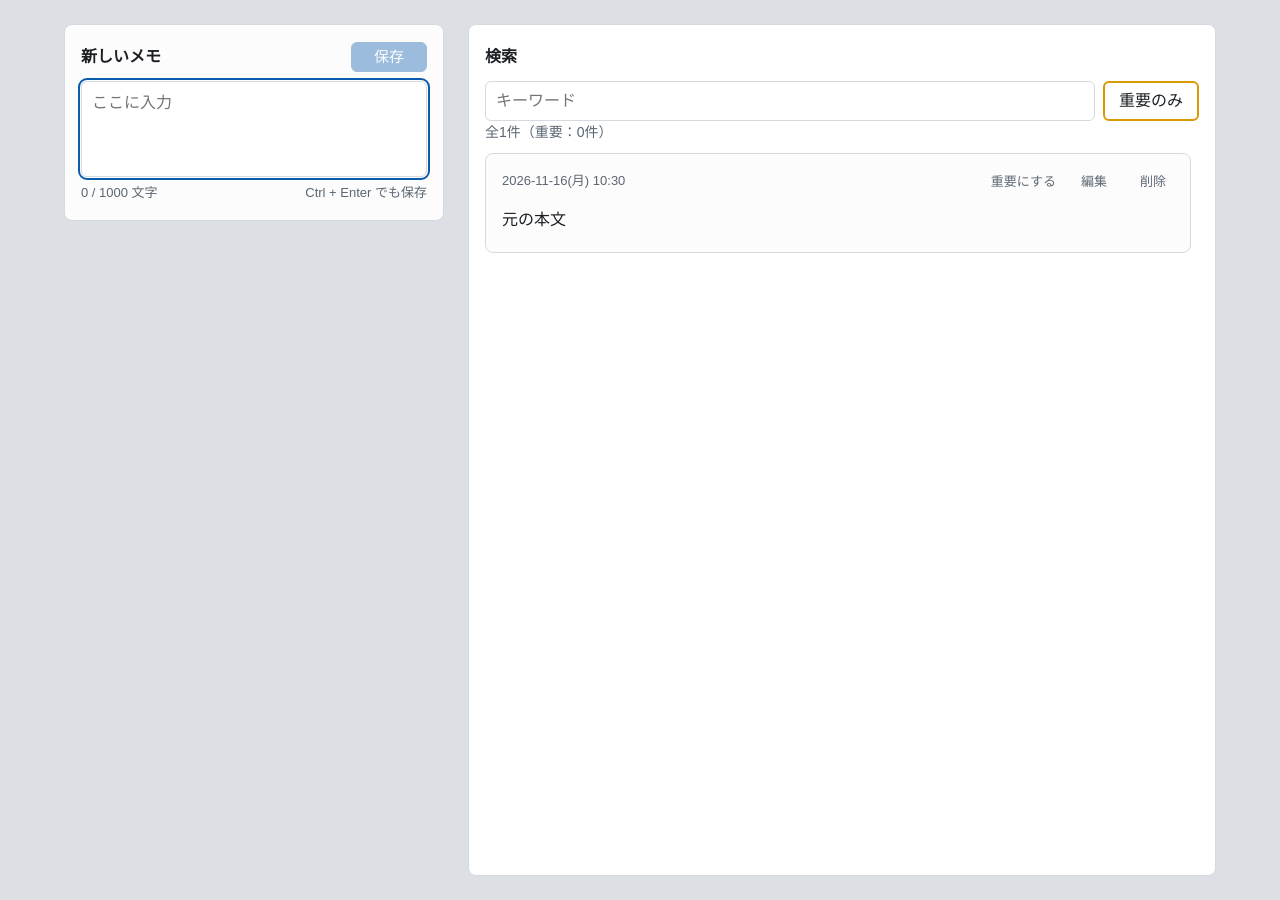
Test: 編集（F4） › 書きかけがあるときの Esc で破棄を断ると、編集を続けられる。変えていなければ確認なしで閉じる
Expected: the text "元の本文" is shown, top-left (502, 211), bottom-right (566, 228)
Click the button "編集" at (1094, 182), box top-left (1070, 169), bottom-right (1118, 195)
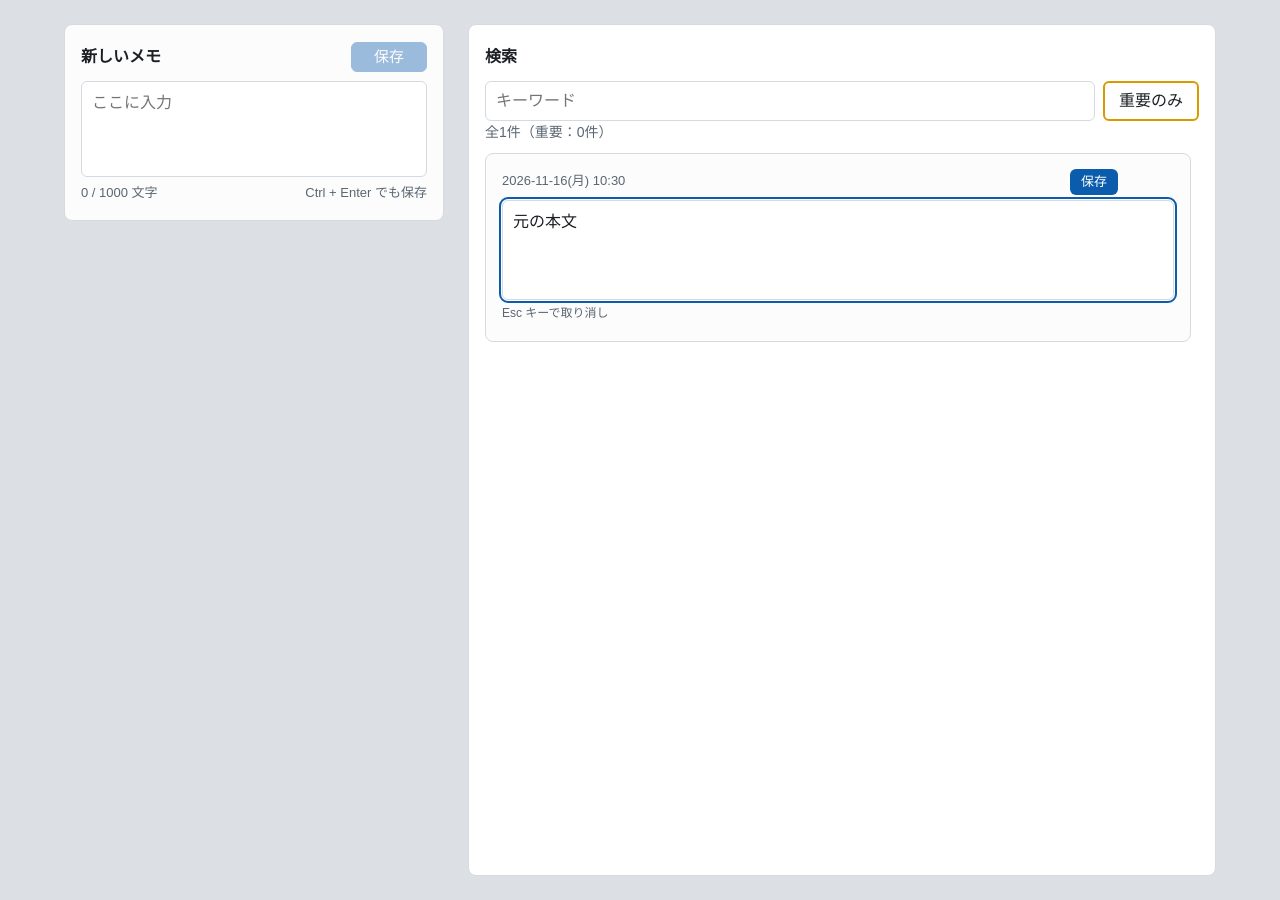
Type "（書きかけ）" into the text box named "メモの本文を編集" at (838, 250), box top-left (502, 200), bottom-right (1174, 300)
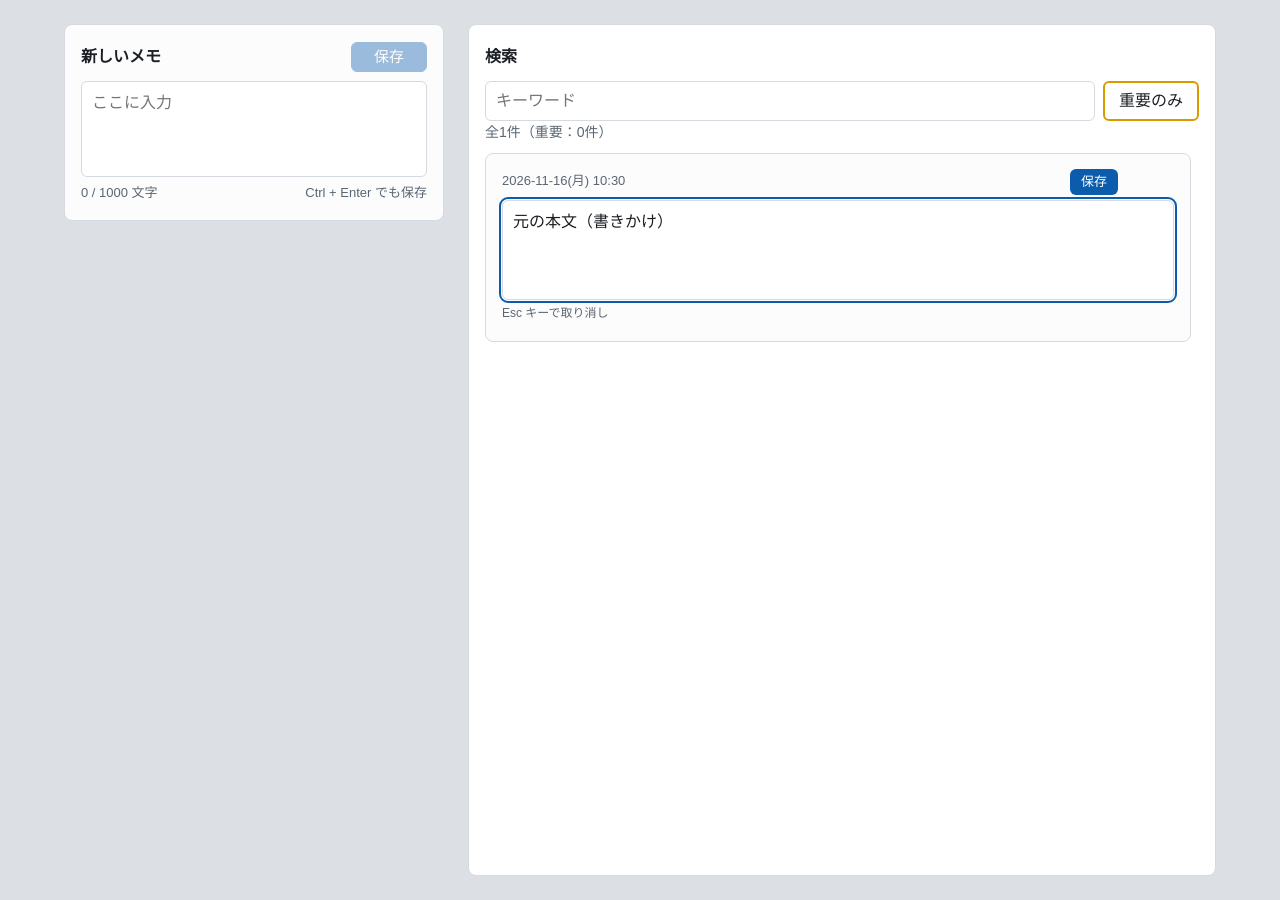
Press Escape
Expected: the text box named "メモの本文を編集" holds "元の本文（書きかけ）"
Replace the text in the text box named "メモの本文を編集" with "元の本文" at (838, 250), box top-left (502, 200), bottom-right (1174, 300)
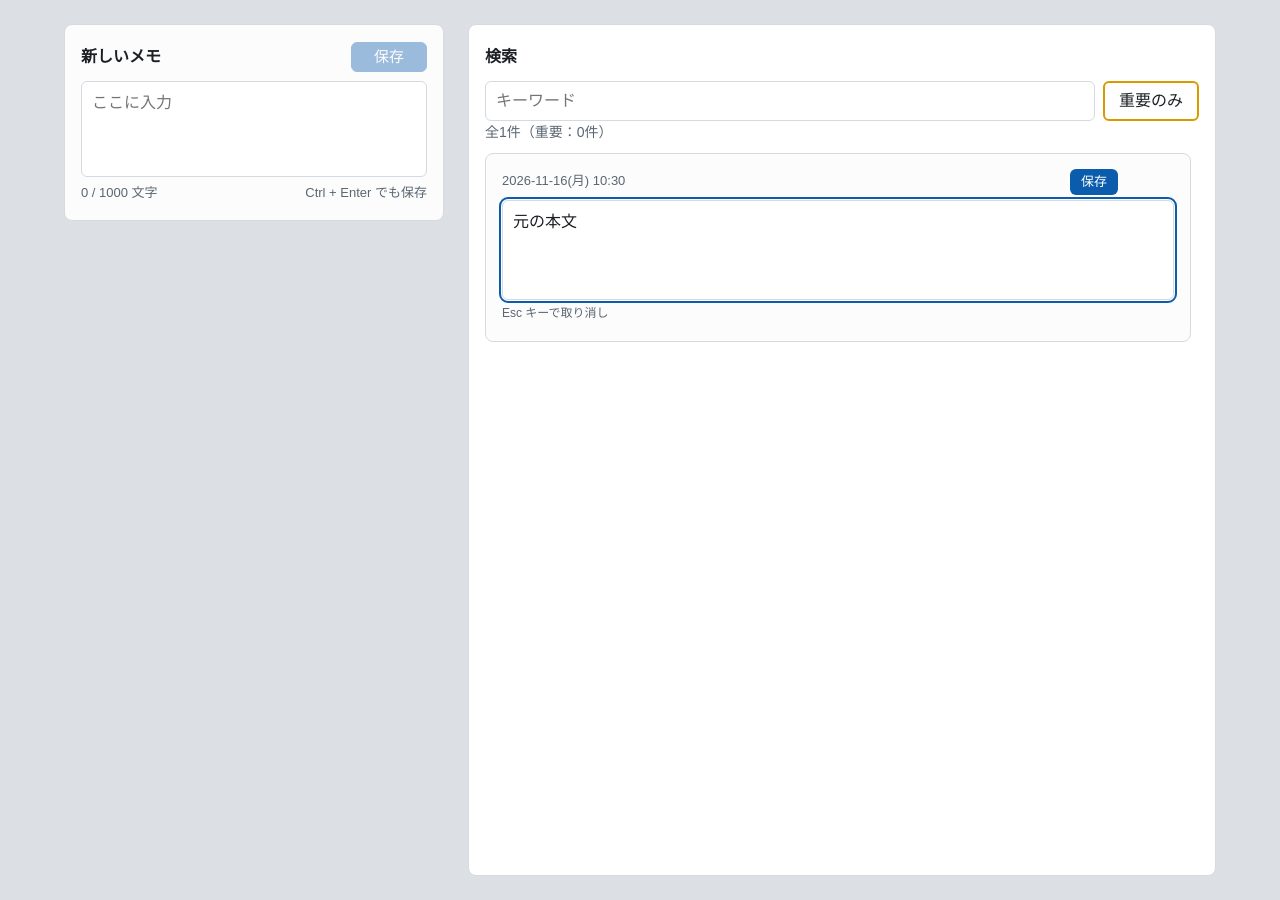
Press Escape
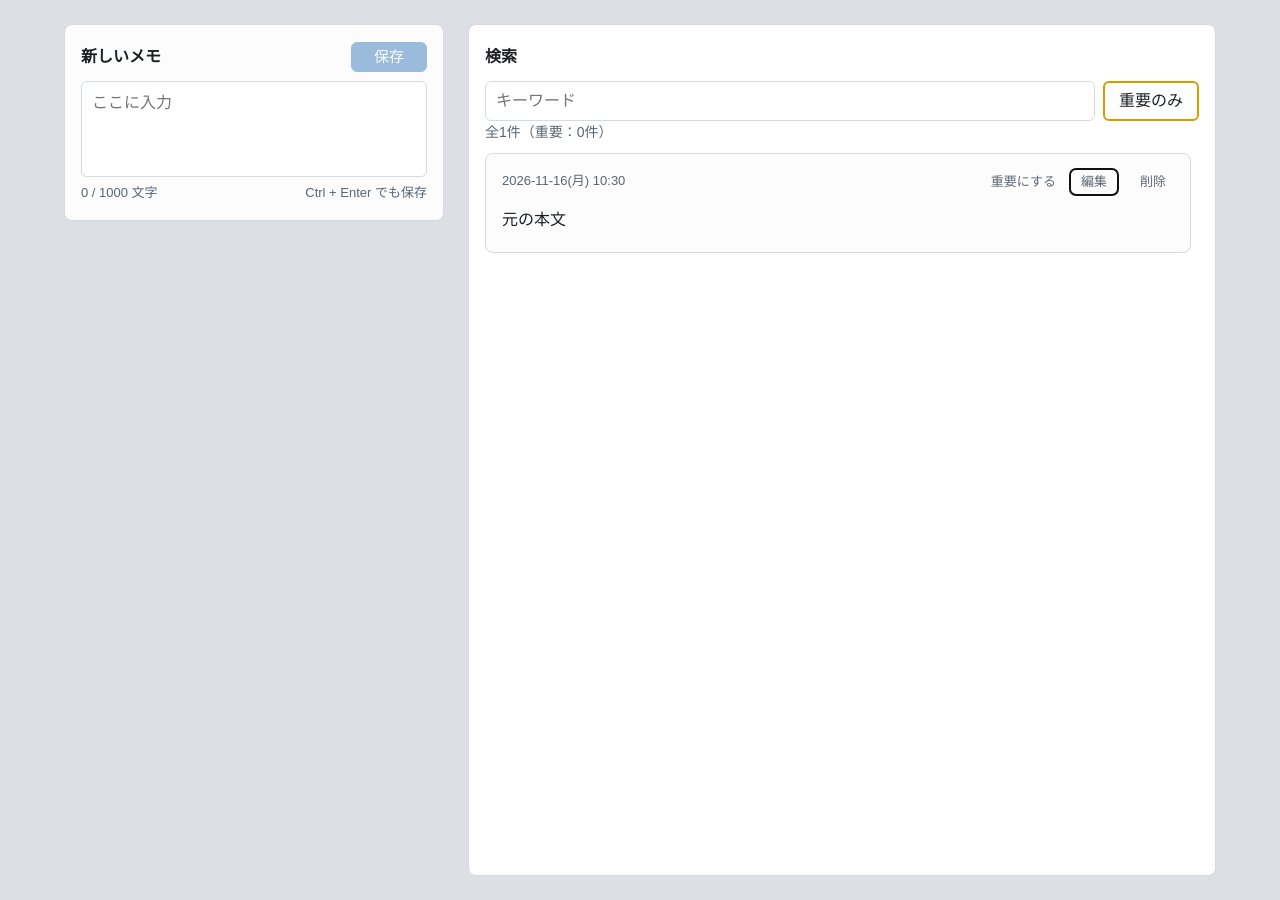
Expected: the text box labelled "メモの本文を編集" is gone
